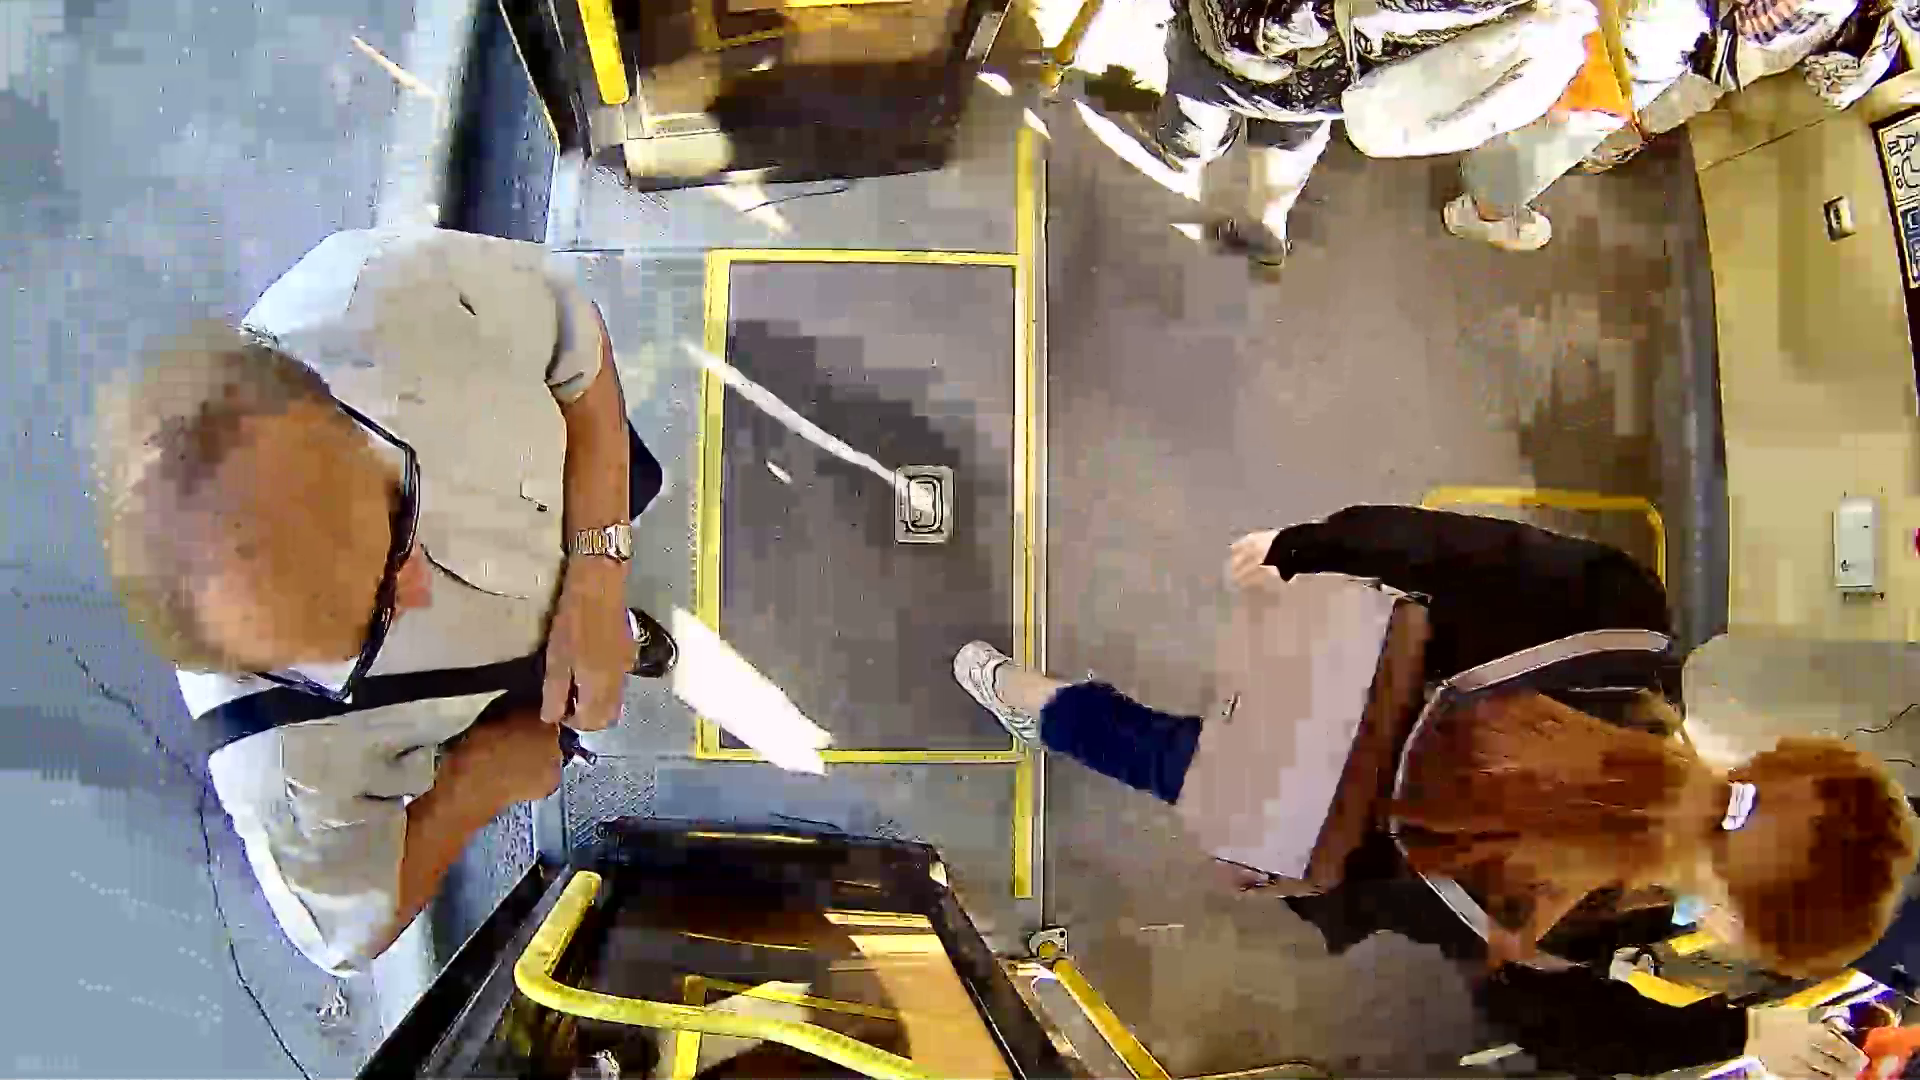person: (134, 185, 743, 899), (1183, 460, 1902, 1055)
